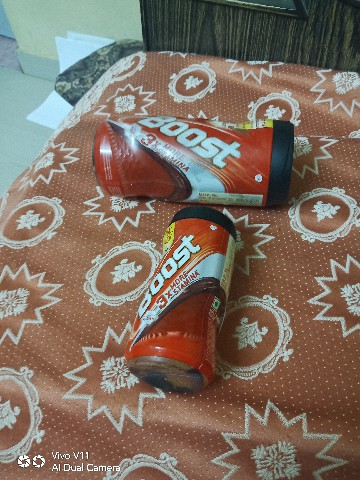boost big: (72, 113, 302, 204)
boost small: (106, 206, 247, 386)
